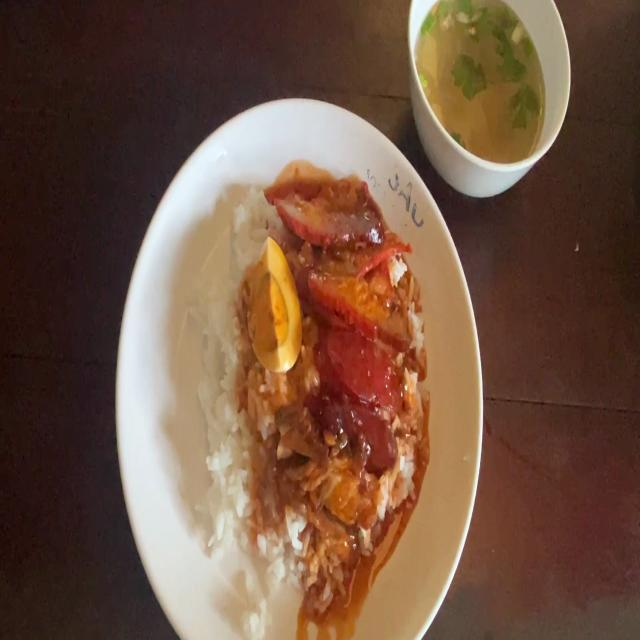01boiled_egg: (255, 244, 300, 368)
01chainese_sausage: (311, 338, 401, 454)
01crispy_pork: (292, 465, 372, 567), (275, 405, 310, 502)
01red_pork: (300, 196, 414, 336)
01red_pork_and_crispy_pork: (203, 200, 420, 587)
01rice: (205, 376, 275, 573), (210, 262, 253, 383), (234, 195, 266, 240)
